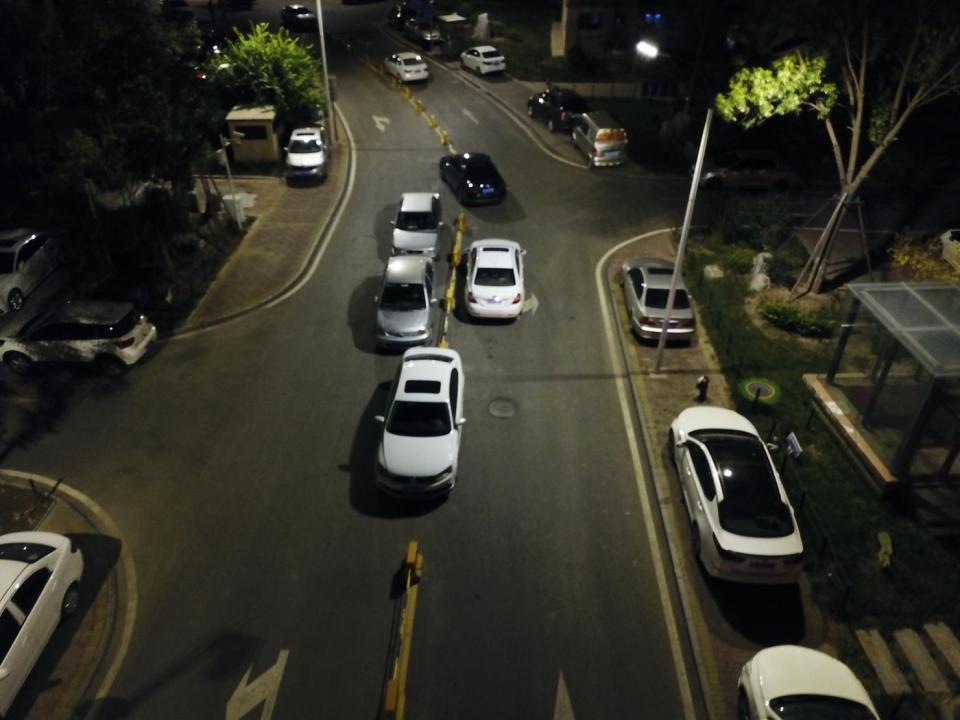car: (668, 404, 805, 588), (0, 530, 84, 718), (374, 346, 465, 497), (0, 298, 158, 378), (0, 226, 74, 316), (620, 257, 697, 343), (374, 254, 437, 349), (464, 237, 528, 319), (688, 148, 804, 193), (390, 192, 443, 262), (439, 152, 507, 206), (527, 87, 589, 132), (283, 127, 330, 180), (383, 51, 429, 83), (460, 45, 507, 76), (404, 15, 446, 44), (387, 4, 419, 30), (281, 4, 316, 26), (160, 0, 195, 21)
van: (572, 110, 629, 169)
